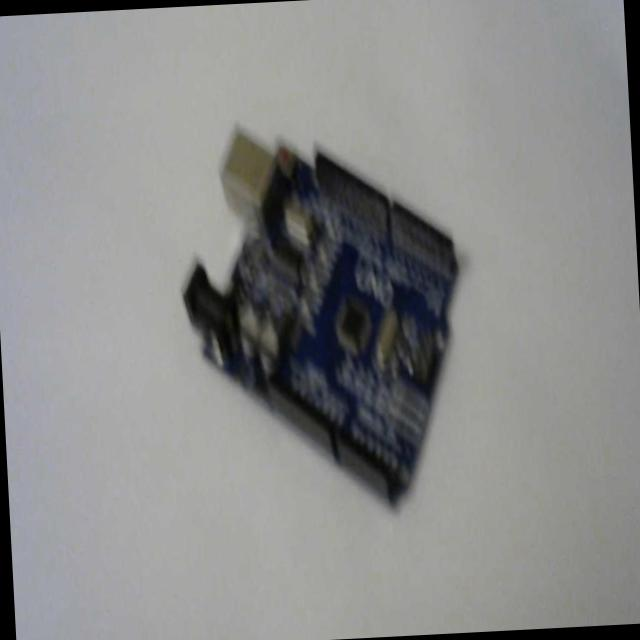arduino: (169, 111, 473, 524)
